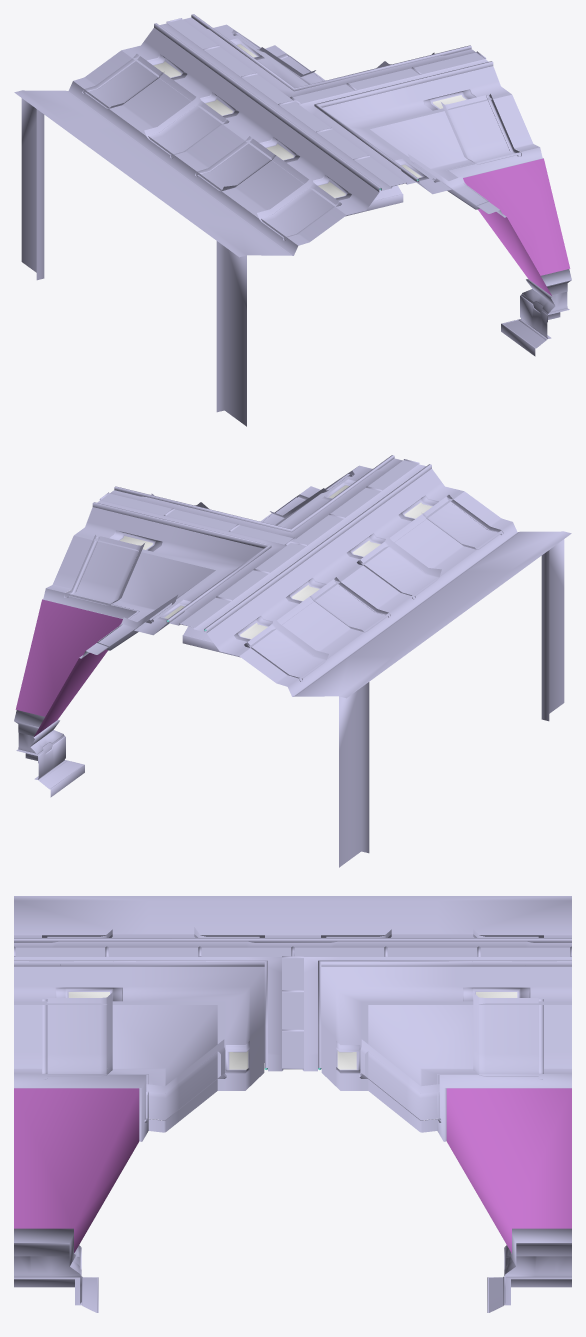
File: HallIntersection.fbx
The picture shows the model from 3 angles, top to bottom: view 1: azimuth 30°, elevation 25°; view 2: azimuth 150°, elevation 25°; view 3: azimuth 270°, elevation 25°; orthographic projection. The views are drawn at different scales.
Visible parts, largest first — view 1: HallIntersection; view 2: HallIntersection; view 3: HallIntersection.
Boxes of the visible parts, x1,y1,x2,y2 form: HallIntersection: (14, 14, 571, 426); HallIntersection: (14, 455, 571, 867); HallIntersection: (14, 896, 571, 1312).
Size of the model in its own units: 9.1 by 5.04 by 10.
